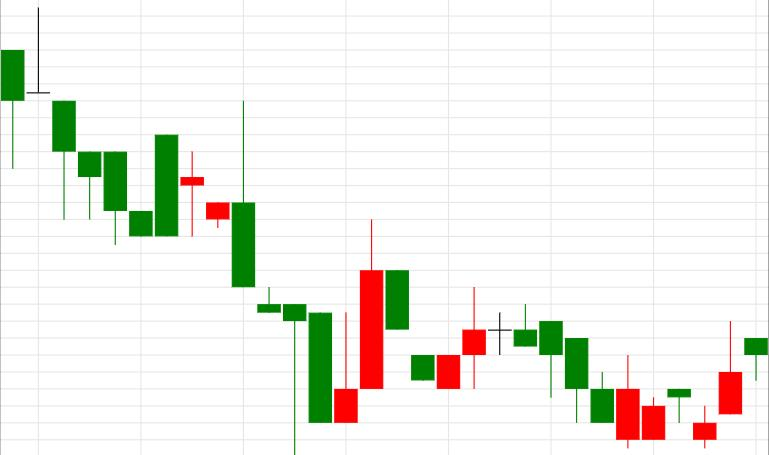inverse_hammer_rise: (181, 98, 357, 454)
